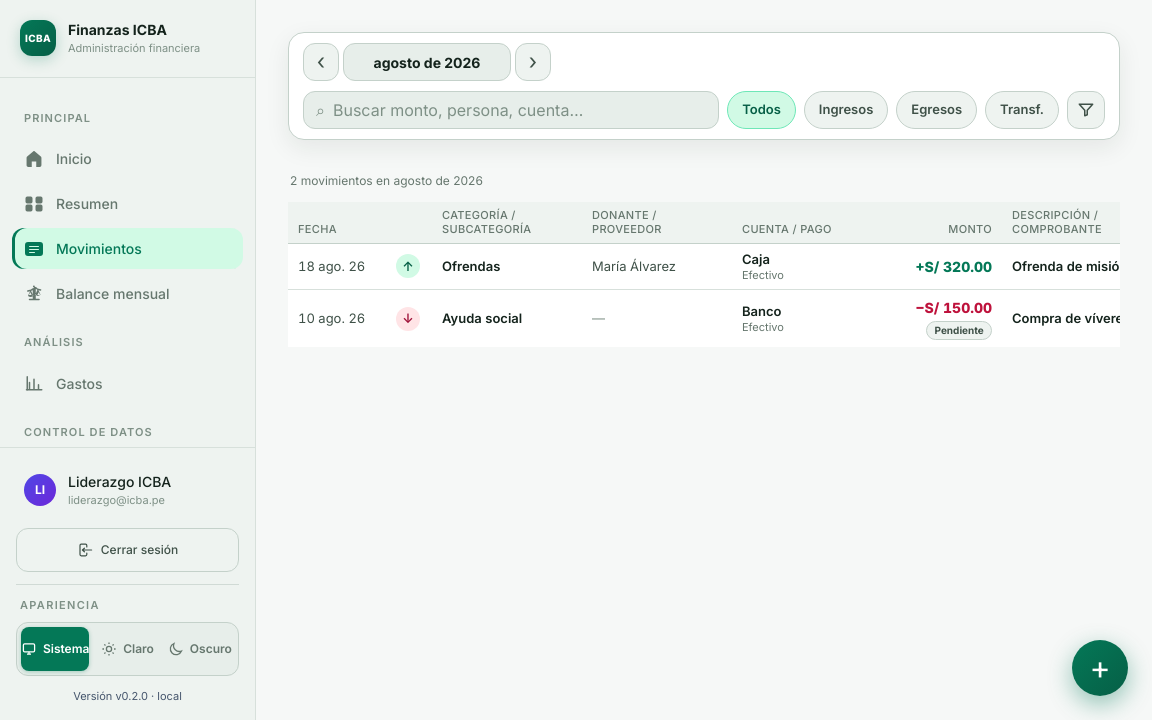
Scenario: explorador de movimientos › muestra la validación de una nueva transacción solo al guardarla
Click the button named "Registrar nuevo movimiento": point(1100, 668) [1072, 640, 1128, 696]
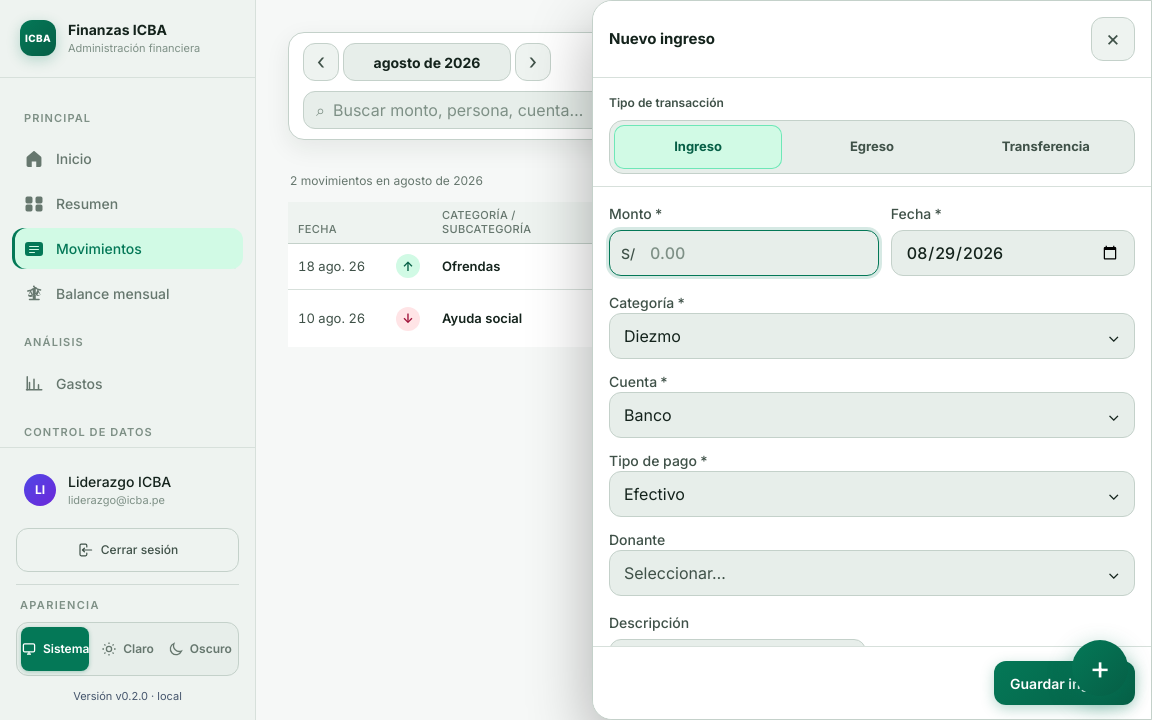
Click the radio button labelled "Egreso": point(872, 146) [850, 138, 894, 154]
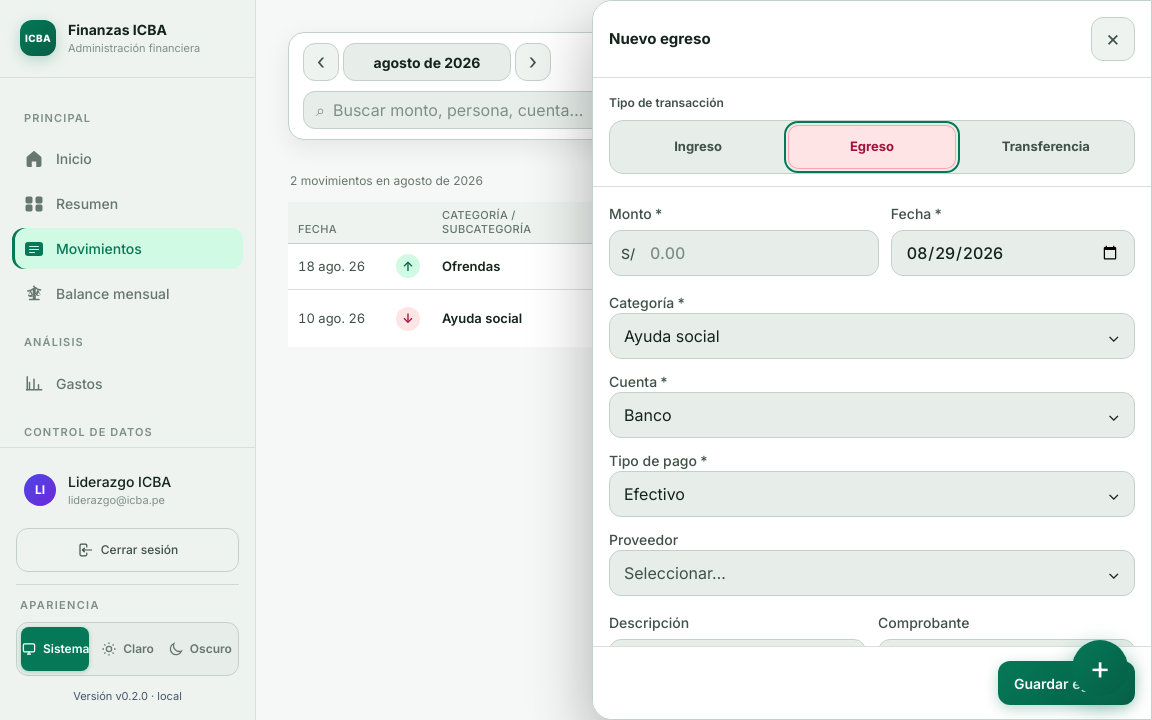
Expected: the text "Revisa los campos indicados antes de guardar." is not shown
Click the button "Guardar egreso": point(1066, 683) [998, 661, 1135, 705]
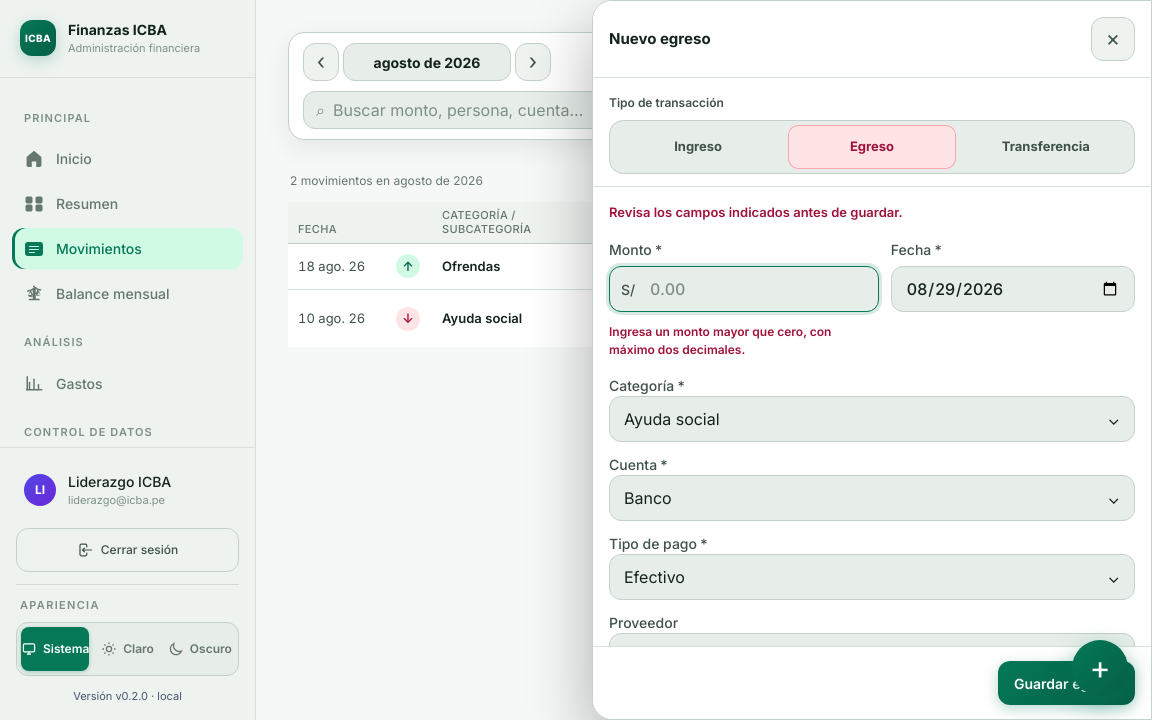
Expected: the message reads "Revisa los campos indicados antes de guardar.", [609, 204, 903, 220]
